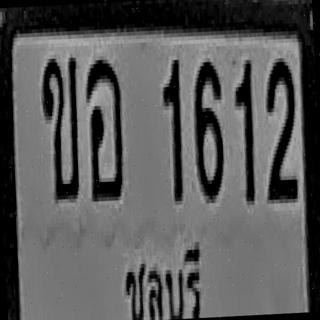A02: (40, 54, 84, 200)
A43: (84, 55, 126, 198)
N01: (233, 56, 258, 202), (162, 58, 186, 200)
N02: (262, 58, 299, 200)
N06: (191, 58, 226, 200)
P13: (116, 235, 208, 320)
